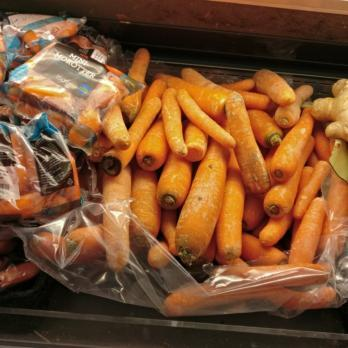Carrot: (111, 44, 312, 272)
